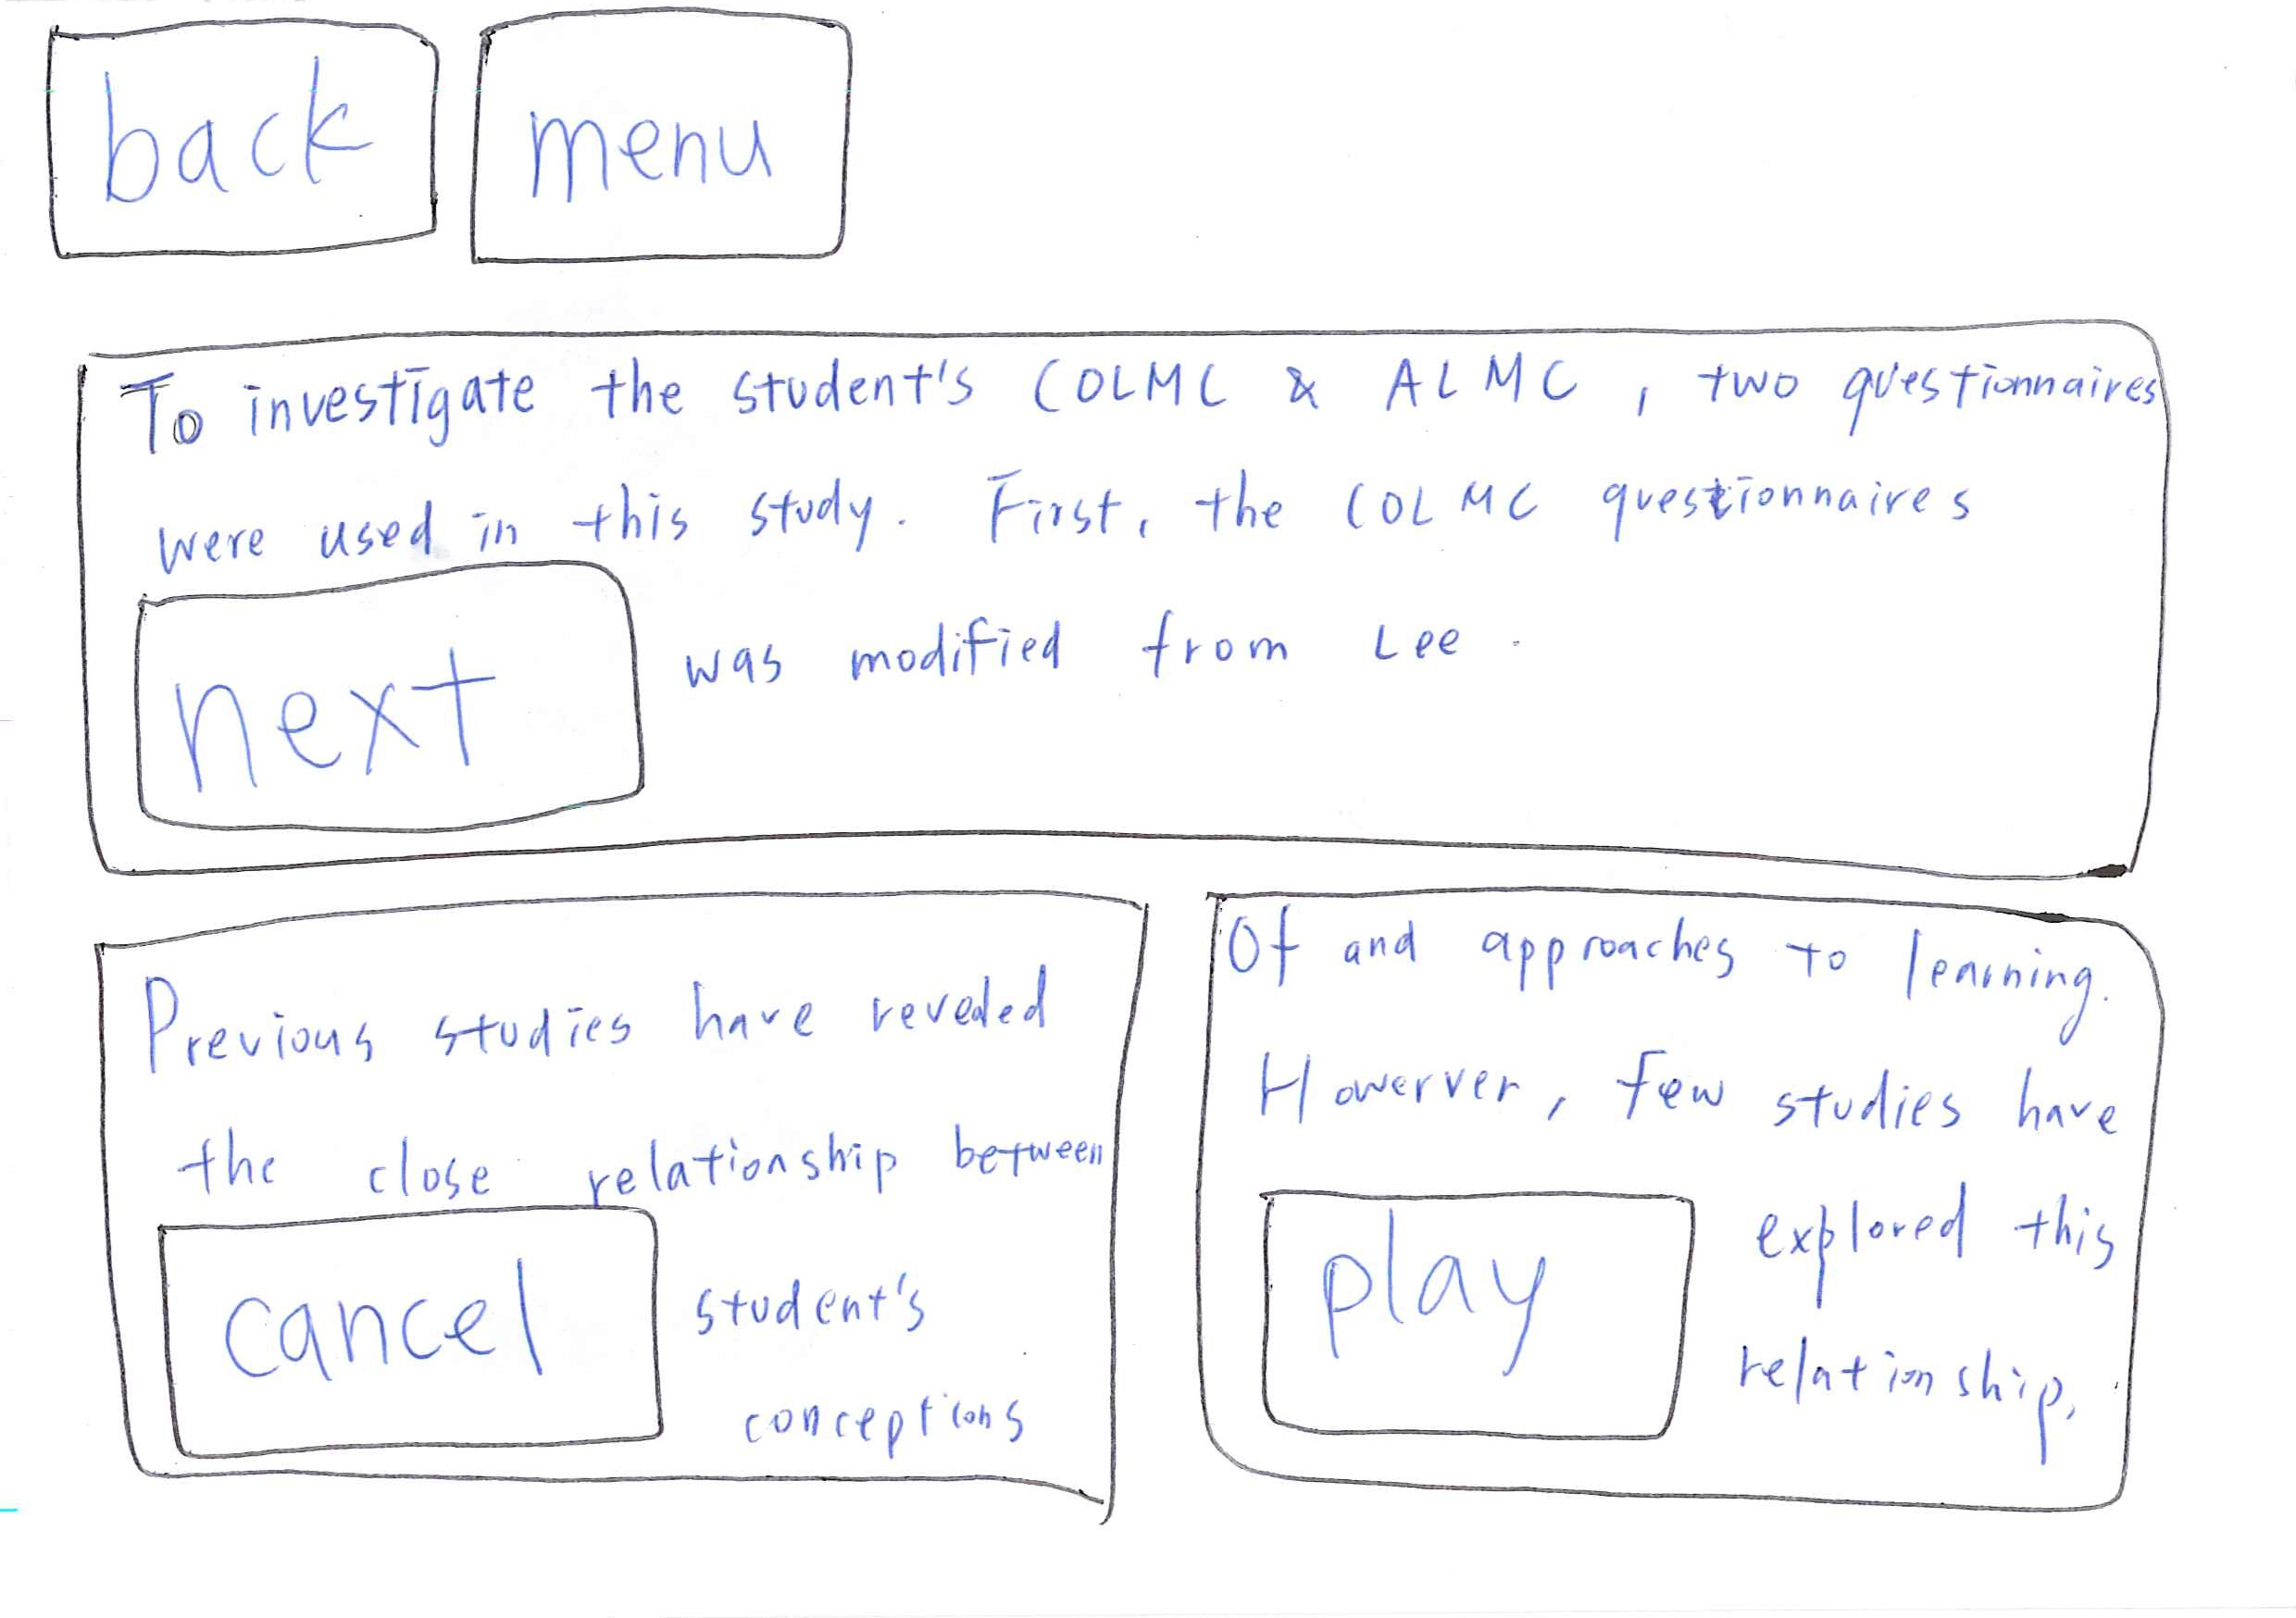back: (30, 2, 457, 284)
cancel: (140, 1192, 660, 1466)
double: (33, 865, 1177, 1543), (1152, 867, 2296, 1544)
menu: (455, 5, 858, 292)
next: (100, 550, 673, 835)
play: (1242, 1177, 1720, 1452)
row: (25, 869, 2296, 1546), (25, 292, 2296, 916), (25, 2, 2296, 319)
single: (40, 289, 2219, 909)
small-title: (124, 357, 2144, 464), (110, 949, 1047, 1063), (1236, 907, 2084, 1031)
text: (687, 483, 1590, 683), (135, 459, 2039, 550), (666, 1107, 1084, 1466), (1744, 1108, 2105, 1443), (1243, 1030, 2121, 1156), (173, 1112, 1103, 1173)
